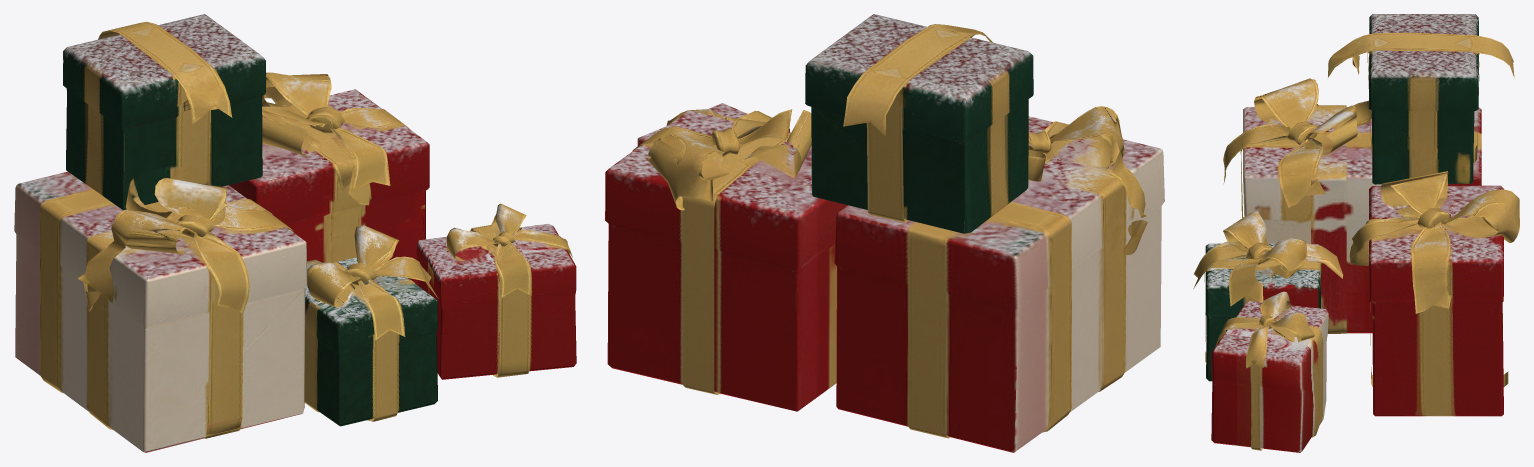
Rendered from AW-XMAS-GIFTS-001-v0.2.glb.
3 views of the same model, side by side, from view 1: azimuth 30°, elevation 25°; view 2: azimuth 150°, elevation 25°; view 3: azimuth 270°, elevation 25° (orthographic). The views are drawn at different scales.
Parts seen in each view (by area): view 1: AW-XMAS-GIFTS-001_meter_ground_pivot; view 2: AW-XMAS-GIFTS-001_meter_ground_pivot; view 3: AW-XMAS-GIFTS-001_meter_ground_pivot.
Boxes of the visible parts, x1=… form: AW-XMAS-GIFTS-001_meter_ground_pivot: x1=14, y1=14, x2=576, y2=452; AW-XMAS-GIFTS-001_meter_ground_pivot: x1=605, y1=14, x2=1164, y2=452; AW-XMAS-GIFTS-001_meter_ground_pivot: x1=1193, y1=14, x2=1519, y2=452.
Size of the model in its own units: 2.35 by 1.5 by 1.59.
Materials: 1 (1 with a texture image).
